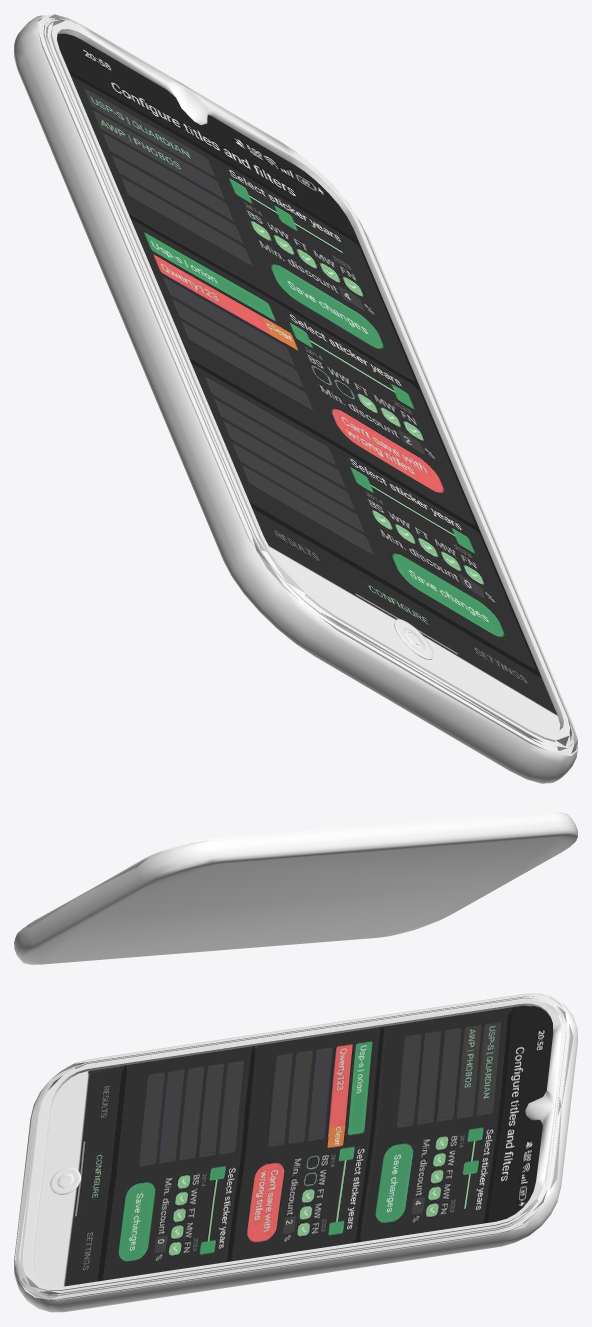
File: Phone.obj
The picture shows the model from 3 angles, top to bottom: view 1: azimuth 30°, elevation 25°; view 2: azimuth 150°, elevation 25°; view 3: azimuth 270°, elevation 25°; orthographic projection. The views are drawn at different scales.
Visible parts, largest first — view 1: objMesh; view 2: objMesh; view 3: objMesh.
Part boxes in pixels (bbox=[...]): objMesh: bbox=[14, 14, 577, 783]; objMesh: bbox=[14, 812, 577, 964]; objMesh: bbox=[14, 993, 577, 1312].
Size of the model in its own units: 1.32 by 1.22 by 2.2.
4 materials, 4 textured.
